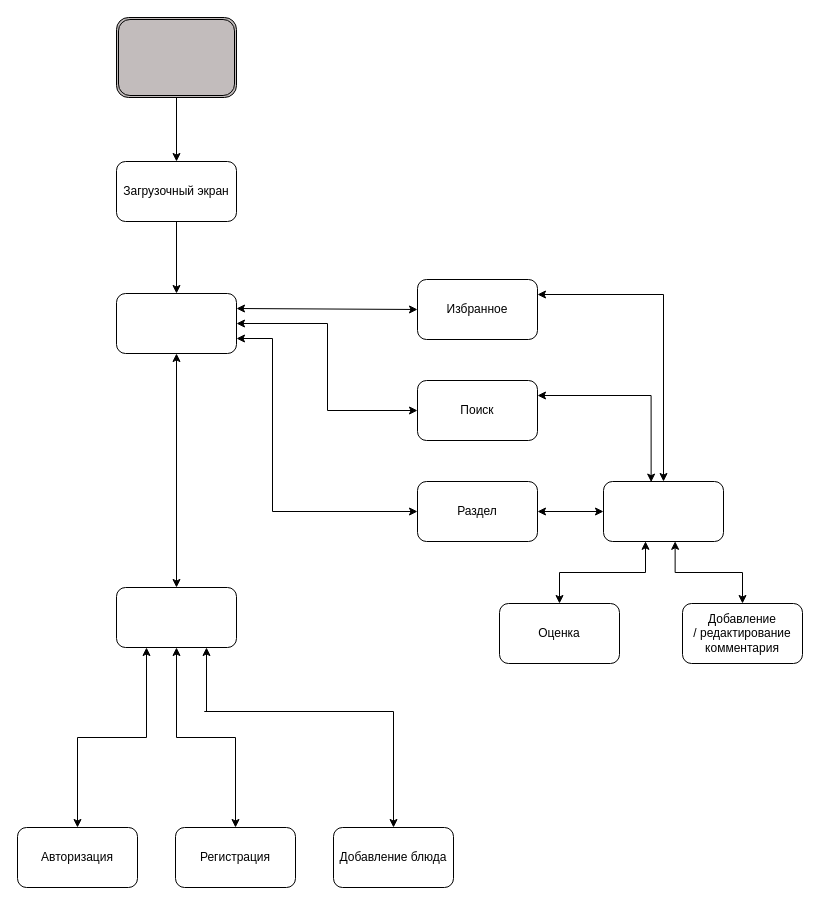
Image size: 820x905. Some labels were removed from this diagram. Each missing label, with the centre of its shape:
"Блюдо" belongs at point (663, 511).
"Вход в приложение" belongs at point (176, 57).
"Главная страница" belongs at point (176, 323).
"Профиль" belongs at point (176, 617).
